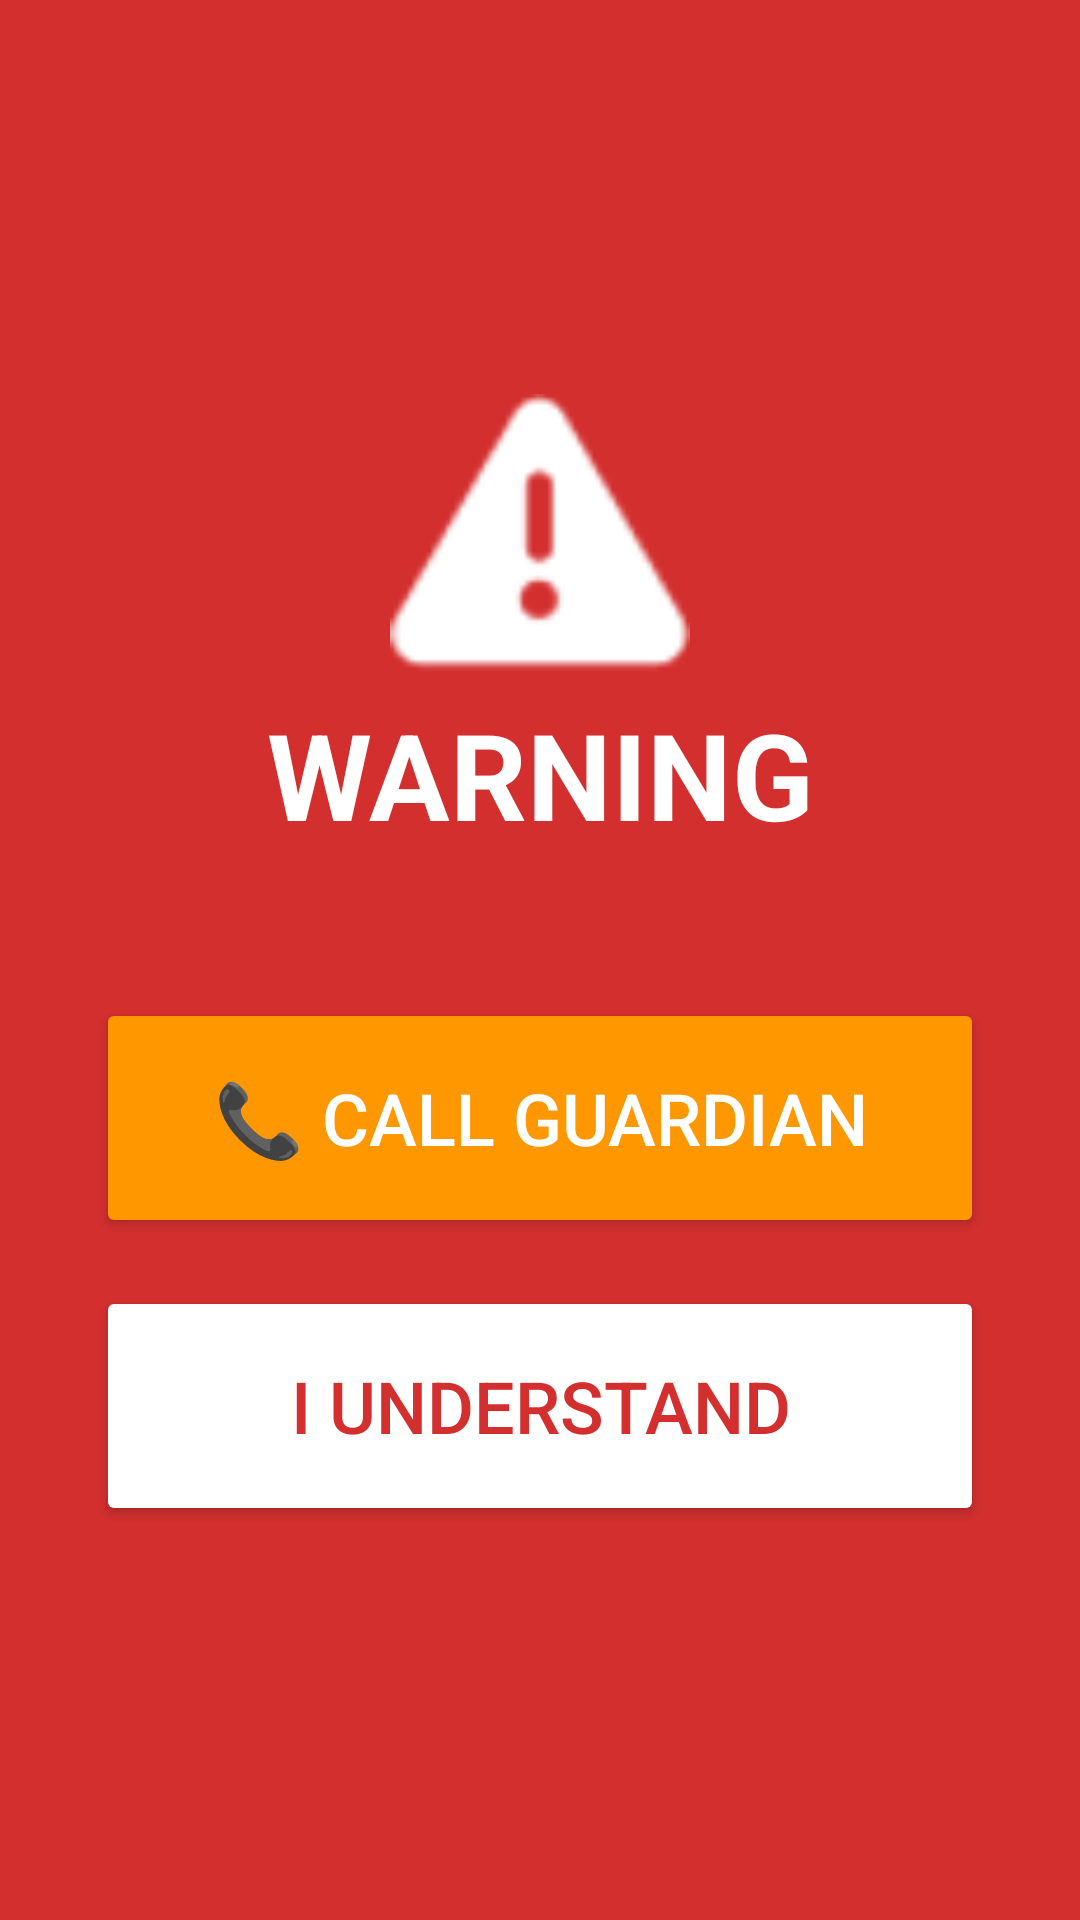

Where to tap for icons on this 1080x1920 app screen, as [x,y]:
alert: [540,531]
